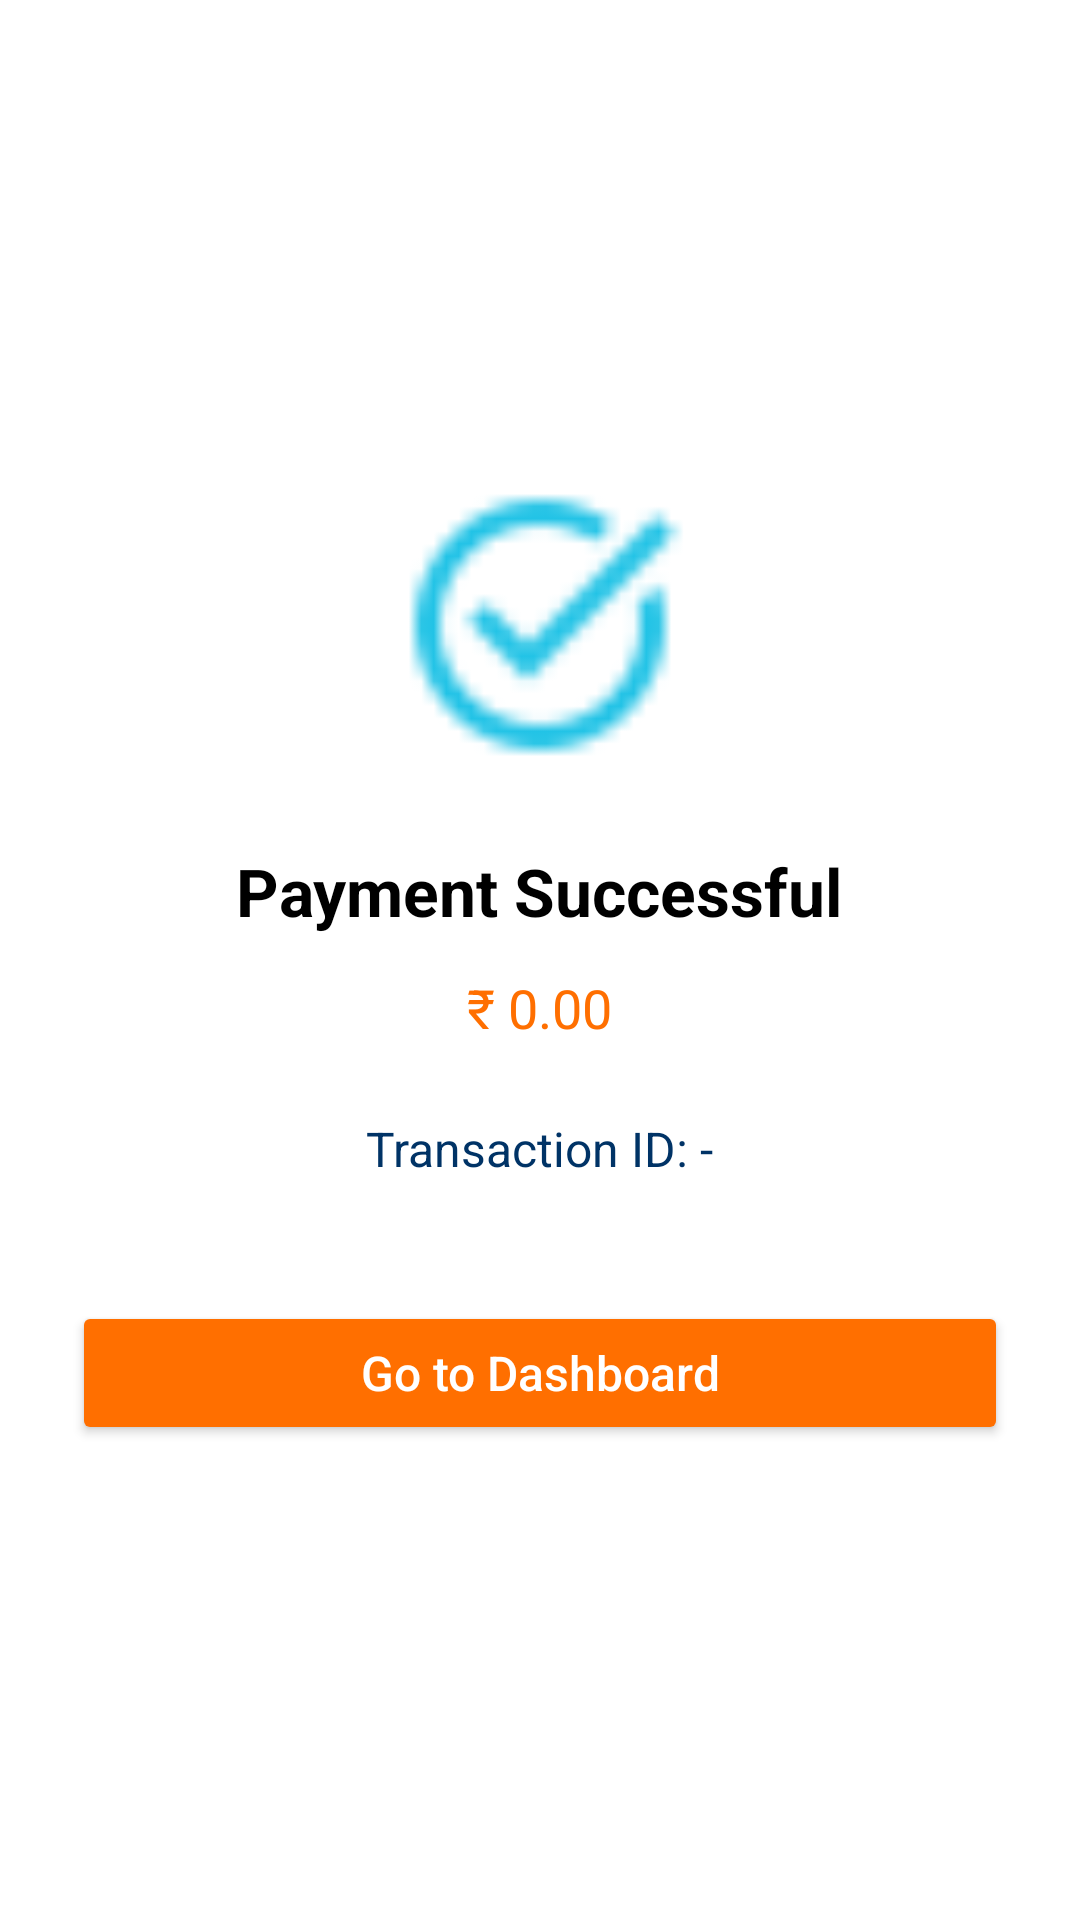

Icon click points for this 1080 x 1920 phone screenshot, format (x=x, y=y):
check: (x=545, y=625)
